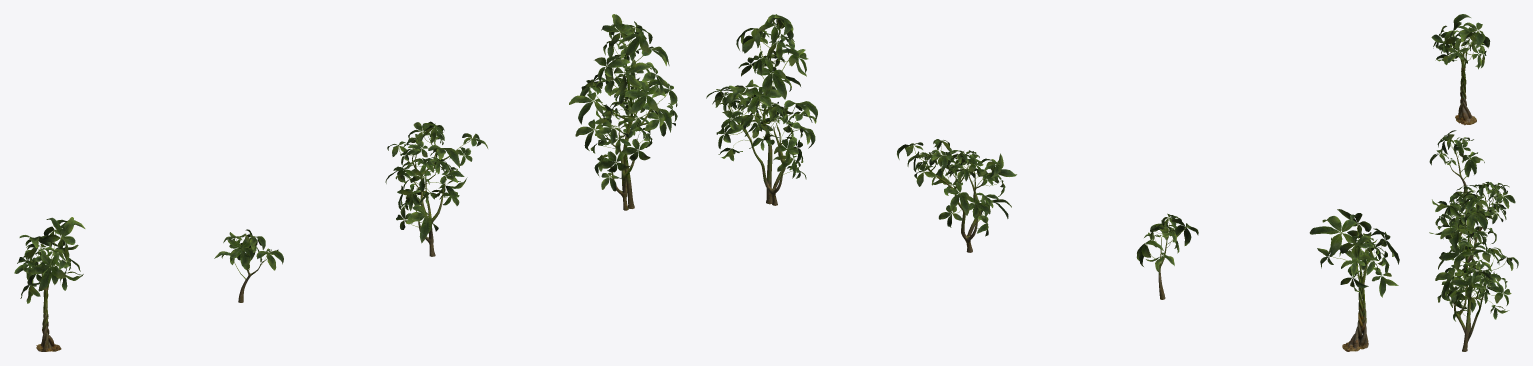
File: pachira_aquatica_01.glb
The picture shows the model from 3 angles, left to right: view 1: azimuth 30°, elevation 25°; view 2: azimuth 150°, elevation 25°; view 3: azimuth 270°, elevation 25°; orthographic projection. The views are drawn at different scales.
Parts seen in each view (by area): view 1: pachira_aquatica_01_leaves_d, pachira_aquatica_01_leaves_c, pachira_aquatica_01_leaves_a, pachira_aquatica_01_leaves_b, pachira_aquatica_01_bark_d, pachira_aquatica_01_bark_c, pachira_aquatica_01_bark_a; view 2: pachira_aquatica_01_leaves_d, pachira_aquatica_01_leaves_c, pachira_aquatica_01_leaves_a, pachira_aquatica_01_leaves_b, pachira_aquatica_01_bark_d, pachira_aquatica_01_bark_a, pachira_aquatica_01_bark_c; view 3: pachira_aquatica_01_leaves_d, pachira_aquatica_01_leaves_c, pachira_aquatica_01_leaves_a, pachira_aquatica_01_leaves_b, pachira_aquatica_01_bark_d, pachira_aquatica_01_bark_a, pachira_aquatica_01_bark_c, pachira_aquatica_01_bark_b.
Part boxes in pixels (bbox=[...]): pachira_aquatica_01_leaves_d: bbox=[569, 14, 677, 191]; pachira_aquatica_01_leaves_c: bbox=[385, 121, 487, 243]; pachira_aquatica_01_leaves_a: bbox=[14, 217, 85, 303]; pachira_aquatica_01_leaves_b: bbox=[214, 229, 283, 279]; pachira_aquatica_01_bark_d: bbox=[595, 44, 652, 210]; pachira_aquatica_01_bark_c: bbox=[409, 137, 457, 256]; pachira_aquatica_01_bark_a: bbox=[36, 265, 61, 351]; pachira_aquatica_01_leaves_d: bbox=[706, 14, 817, 179]; pachira_aquatica_01_leaves_c: bbox=[897, 139, 1016, 236]; pachira_aquatica_01_leaves_a: bbox=[1309, 209, 1399, 297]; pachira_aquatica_01_leaves_b: bbox=[1136, 213, 1198, 274]; pachira_aquatica_01_bark_d: bbox=[728, 43, 793, 205]; pachira_aquatica_01_bark_a: bbox=[1342, 259, 1368, 351]; pachira_aquatica_01_bark_c: bbox=[923, 159, 989, 252]; pachira_aquatica_01_leaves_d: bbox=[1429, 190, 1518, 321]; pachira_aquatica_01_leaves_c: bbox=[1432, 181, 1515, 244]; pachira_aquatica_01_leaves_a: bbox=[1431, 14, 1490, 69]; pachira_aquatica_01_leaves_b: bbox=[1429, 130, 1484, 179]; pachira_aquatica_01_bark_d: bbox=[1454, 219, 1492, 351]; pachira_aquatica_01_bark_a: bbox=[1455, 50, 1476, 125]; pachira_aquatica_01_bark_c: bbox=[1453, 190, 1497, 268]; pachira_aquatica_01_bark_b: bbox=[1447, 149, 1467, 195].
Bounding box in the file's own units: 6.87 × 1.9 × 0.997.
Materials: 2 (2 with a texture image).
